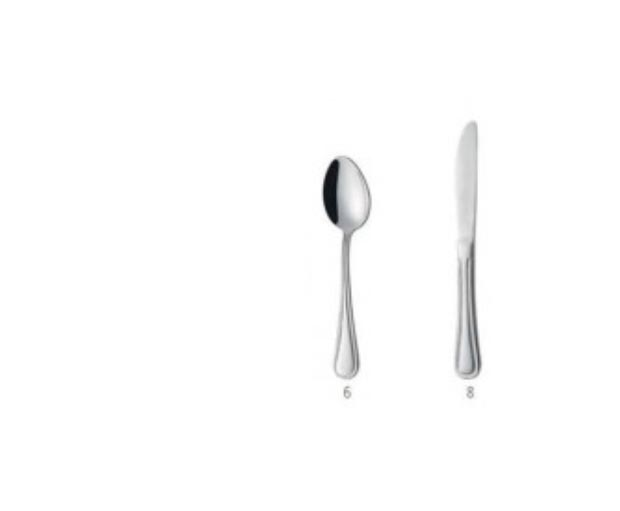Lyzka: (319, 153, 377, 237)
Noz: (449, 117, 485, 242)
